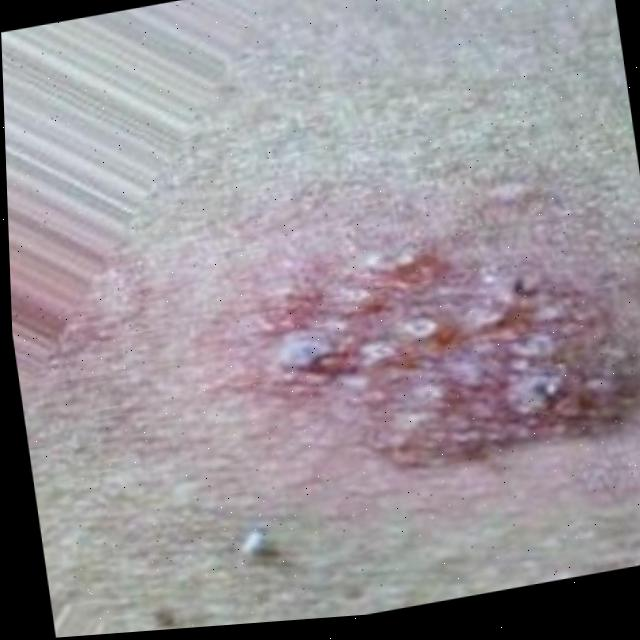Shingles: (274, 235, 635, 485)
